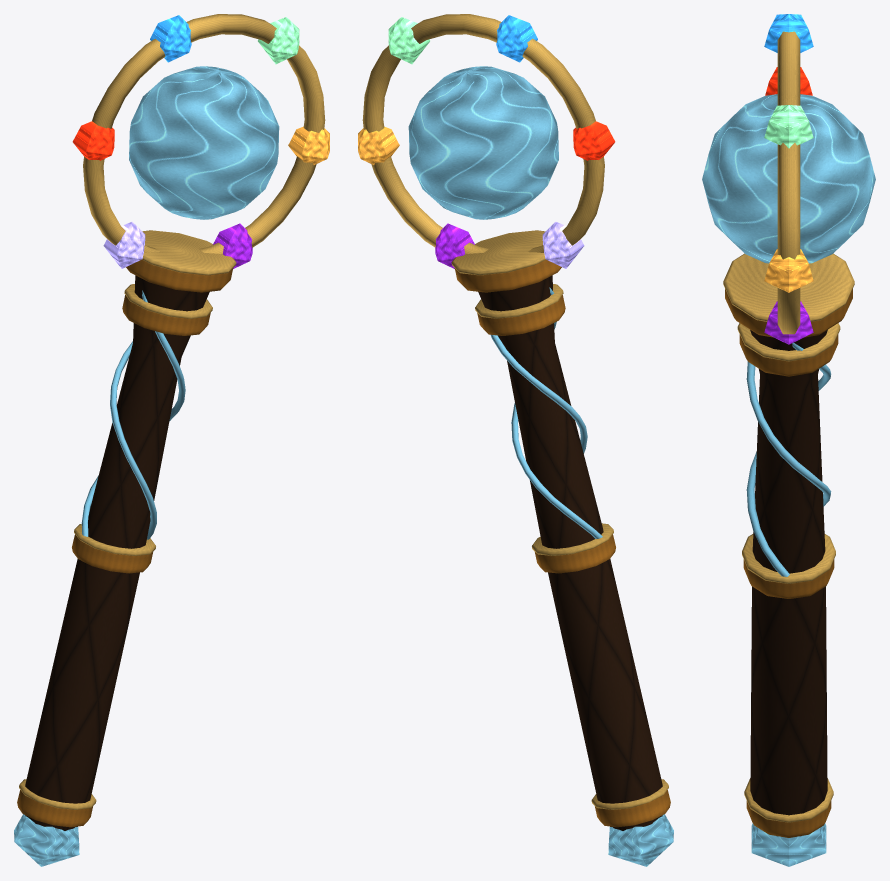
The model's file is elemental_wand.glb.
The picture shows the model from 3 angles, left to right: view 1: azimuth 30°, elevation 25°; view 2: azimuth 150°, elevation 25°; view 3: azimuth 270°, elevation 25°; orthographic projection. The views are drawn at different scales.
Visible parts, largest first — view 1: Leather wrapped grip, Prismatic elemental focus, Six-mode focus halo, Elemental mode inset (×6), Engraved metal collar (×4), Polished collar edge (×4), Spiral elemental shaft inlay (×2), Inset elemental pommel; view 2: Leather wrapped grip, Prismatic elemental focus, Six-mode focus halo, Elemental mode inset (×6), Engraved metal collar (×4), Polished collar edge (×4), Spiral elemental shaft inlay (×2), Inset elemental pommel; view 3: Leather wrapped grip, Prismatic elemental focus, Polished collar edge (×4), Six-mode focus halo, Elemental mode inset (×5), Engraved metal collar (×4), Spiral elemental shaft inlay (×2), Inset elemental pommel.
Boxes of the visible parts, bbox=[...] form: Leather wrapped grip: bbox=[25, 275, 209, 830]; Prismatic elemental focus: bbox=[129, 66, 279, 219]; Six-mode focus halo: bbox=[83, 14, 325, 254]; Elemental mode inset (×6): bbox=[72, 15, 329, 268]; Engraved metal collar (×4): bbox=[17, 259, 233, 827]; Polished collar edge (×4): bbox=[19, 230, 236, 809]; Spiral elemental shaft inlay (×2): bbox=[81, 290, 185, 539]; Inset elemental pommel: bbox=[14, 814, 79, 866]; Leather wrapped grip: bbox=[478, 275, 662, 830]; Prismatic elemental focus: bbox=[408, 66, 558, 219]; Six-mode focus halo: bbox=[362, 14, 604, 254]; Elemental mode inset (×6): bbox=[358, 15, 615, 268]; Engraved metal collar (×4): bbox=[454, 259, 670, 827]; Polished collar edge (×4): bbox=[451, 230, 668, 809]; Spiral elemental shaft inlay (×2): bbox=[490, 287, 602, 538]; Inset elemental pommel: bbox=[608, 814, 673, 866]; Leather wrapped grip: bbox=[750, 330, 827, 836]; Prismatic elemental focus: bbox=[702, 94, 875, 263]; Polished collar edge (×4): bbox=[723, 253, 854, 822]; Six-mode focus halo: bbox=[777, 31, 800, 334]; Elemental mode inset (×5): bbox=[764, 14, 813, 344]; Engraved metal collar (×4): bbox=[725, 289, 852, 837]; Spiral elemental shaft inlay (×2): bbox=[746, 342, 831, 576]; Inset elemental pommel: bbox=[751, 823, 826, 866].
Bounding box in the file's own units: 27.7 × 68.65 × 11.7.
11 materials, 11 textured.
